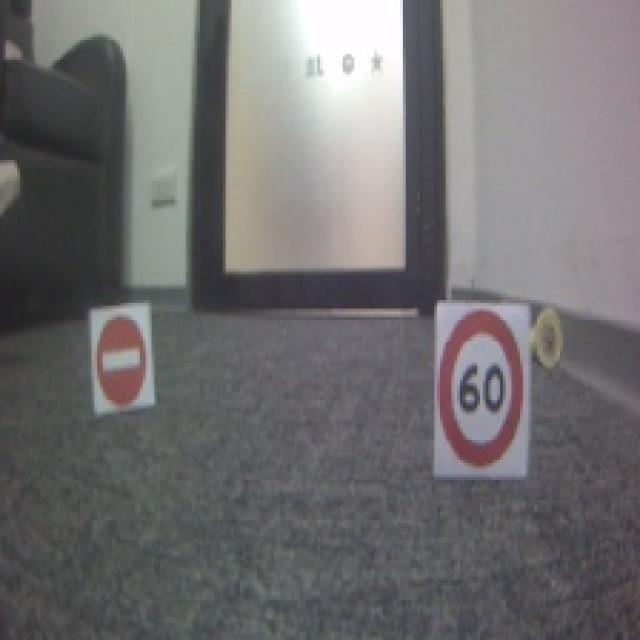DoNotEnterSign: (96, 313, 148, 412)
